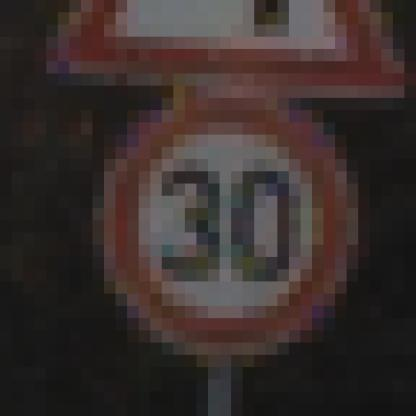Speed Limit 30: (106, 95, 344, 349)
